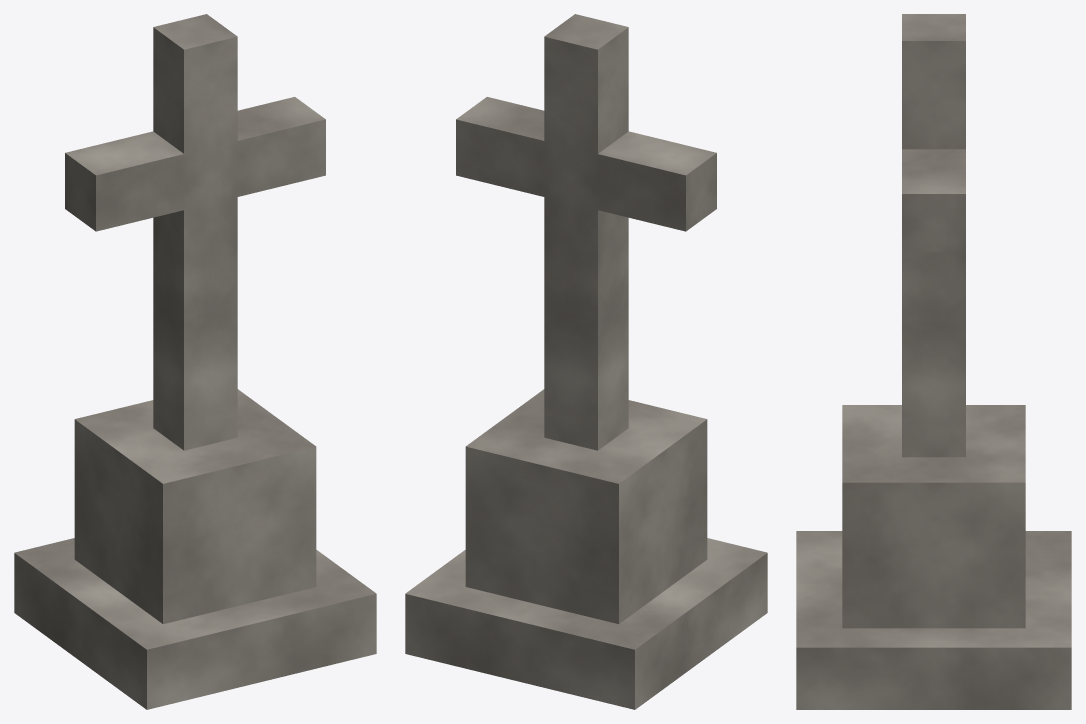
File: cruz.obj
The picture shows the model from 3 angles, left to right: view 1: azimuth 30°, elevation 25°; view 2: azimuth 150°, elevation 25°; view 3: azimuth 270°, elevation 25°; orthographic projection. The views are drawn at different scales.
Parts seen in each view (by area): view 1: cruz; view 2: cruz; view 3: cruz.
Boxes of the visible parts, x1,y1,x2,y2 form: cruz: [14, 14, 376, 709]; cruz: [405, 14, 767, 709]; cruz: [796, 14, 1071, 709].
Size of the model in its own units: 0.6 by 1.5 by 0.6.
1 material, 1 textured.
